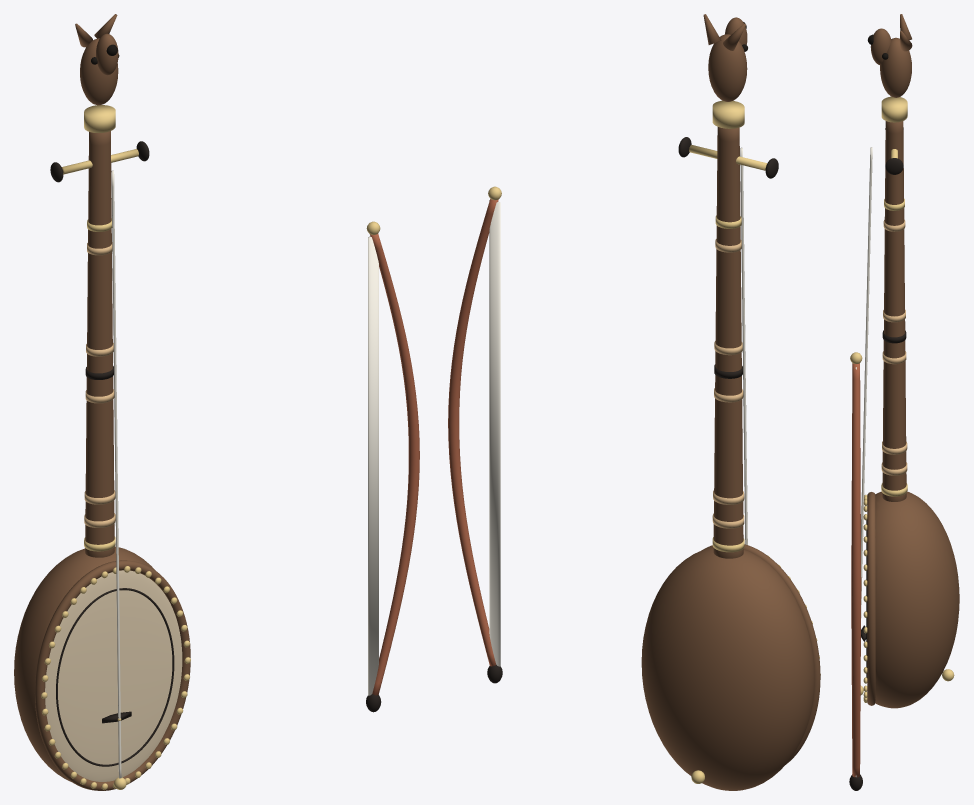
Rendered from lahuta.glb.
3 views of the same model, side by side, from view 1: azimuth 30°, elevation 25°; view 2: azimuth 150°, elevation 25°; view 3: azimuth 270°, elevation 25° (orthographic). The views are drawn at different scales.
Parts seen in each view (by area): view 1: Skin, Neck, Body, Bow_Hair, Bow_Stick, Rim, String, Head_Skull, Skin_Inlay, Head_Collar; view 2: Body, Neck, Bow_Hair, Bow_Stick, Head_Skull, Rim, String, Head_Collar; view 3: Body, Neck, Bow_Stick, Rim, Head_Skull, String, Head_Collar, Head_Snout, Peg_Knob_R.
Part boxes in pixels (x1,y1,x2,y2): Skin: (45, 570, 182, 781); Neck: (85, 131, 114, 557); Body: (14, 546, 155, 781); Bow_Hair: (368, 235, 378, 695); Bow_Stick: (370, 233, 419, 695); Rim: (35, 560, 190, 790); String: (111, 170, 121, 778); Head_Skull: (80, 38, 118, 105); Skin_Inlay: (56, 588, 174, 766); Head_Collar: (84, 105, 115, 132); Body: (641, 547, 814, 790); Neck: (713, 127, 743, 558); Bow_Hair: (489, 200, 500, 666); Bow_Stick: (448, 199, 498, 666); Head_Skull: (708, 34, 747, 101); Rim: (702, 544, 820, 764); String: (740, 147, 747, 544); Head_Collar: (712, 100, 744, 128); Body: (875, 491, 959, 708); Neck: (882, 121, 906, 501); Bow_Stick: (851, 363, 861, 777); Rim: (867, 492, 875, 705); Head_Skull: (880, 37, 911, 97); String: (861, 147, 872, 617); Head_Collar: (881, 96, 907, 122); Head_Snout: (870, 28, 891, 65); Peg_Knob_R: (885, 158, 903, 174).
Size of what is drawn, in the model's own units: 0.5065 by 0.9804 by 0.144.
